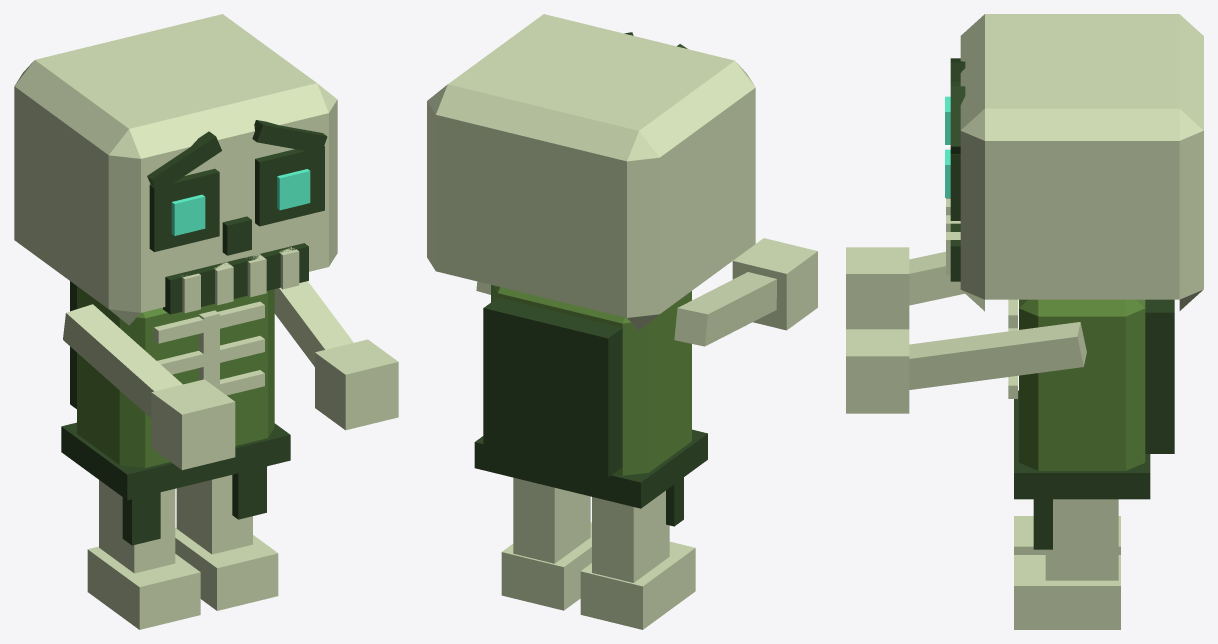
The model's file is grunt_r6.glb.
3 renders of one model, left to right at view 1: azimuth 30°, elevation 25°; view 2: azimuth 150°, elevation 25°; view 3: azimuth 270°, elevation 25°, orthographic. The views are drawn at different scales.
Parts seen in each view (by area): view 1: grunt_r6_mesh; view 2: grunt_r6_mesh; view 3: grunt_r6_mesh.
Part boxes in pixels (left/top/right/bottom): grunt_r6_mesh: left=14, top=14, right=398, bottom=629; grunt_r6_mesh: left=427, top=14, right=817, bottom=629; grunt_r6_mesh: left=846, top=14, right=1203, bottom=629.
Size of the model in its own units: 0.6942 by 1.5 by 0.9112.
Materials: 1 (1 with a texture image).
